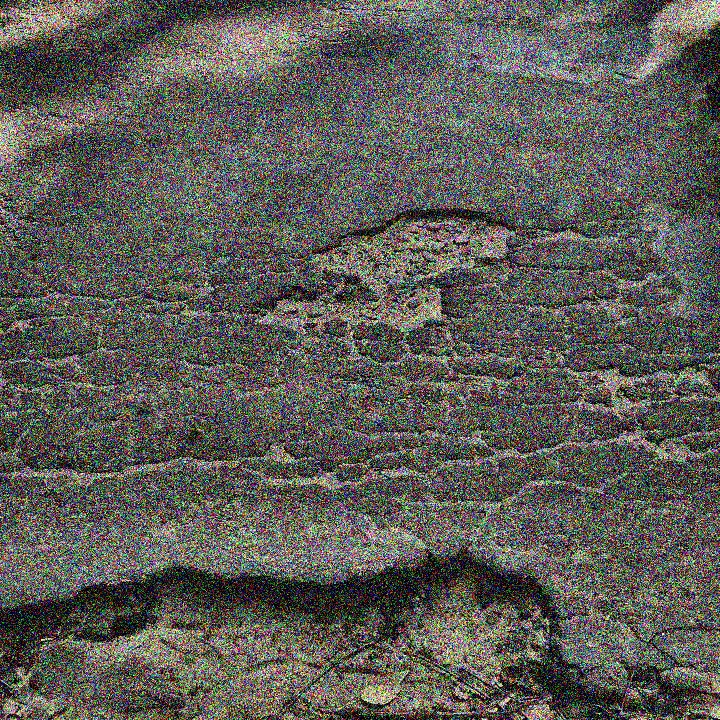pothole: (1, 538, 695, 719), (249, 204, 516, 332)
